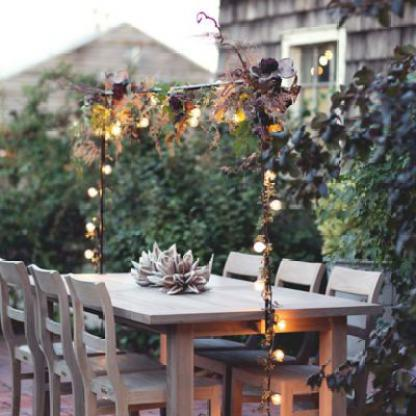table: (10, 256, 388, 415)
